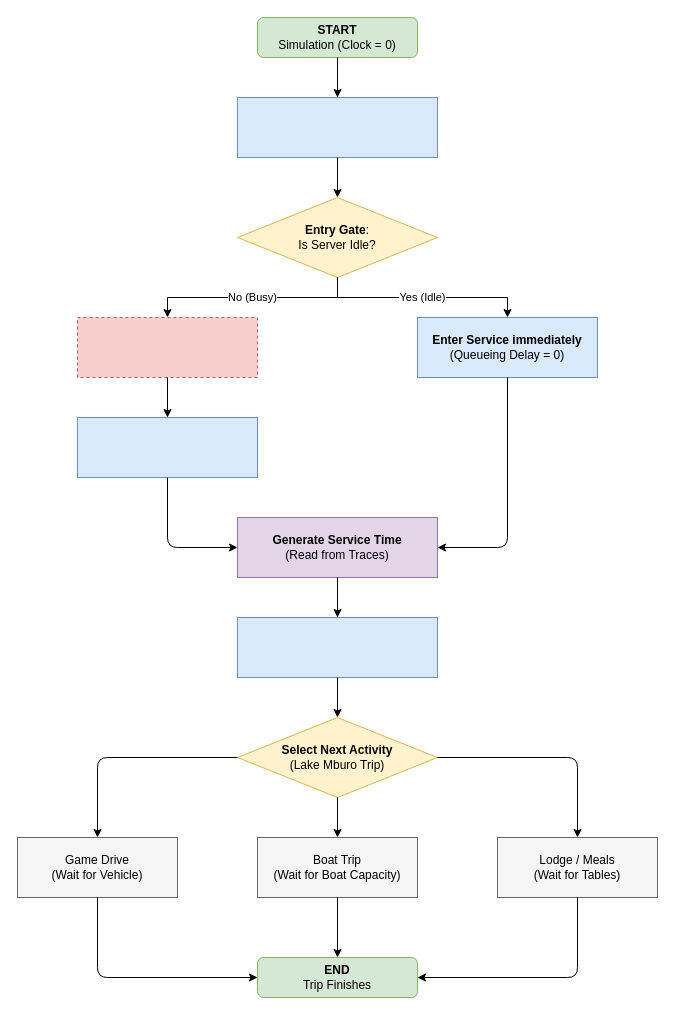
The diagram is 675 pixels wide and 1015 high, and some of its shapes have lost their labels. The box of each missing label's shape, as (x1, y1, x2, y2) in pixels:
Arrival Event Generate initial arrival time: (236, 96, 438, 158)
Departure Event (Server Free, Car proceeds): (236, 616, 438, 678)
Join Gate Queue (Save Arrival Timestamp): (76, 316, 258, 378)
Wait for Departure (Pop Queue, Save Delay): (76, 416, 258, 478)
